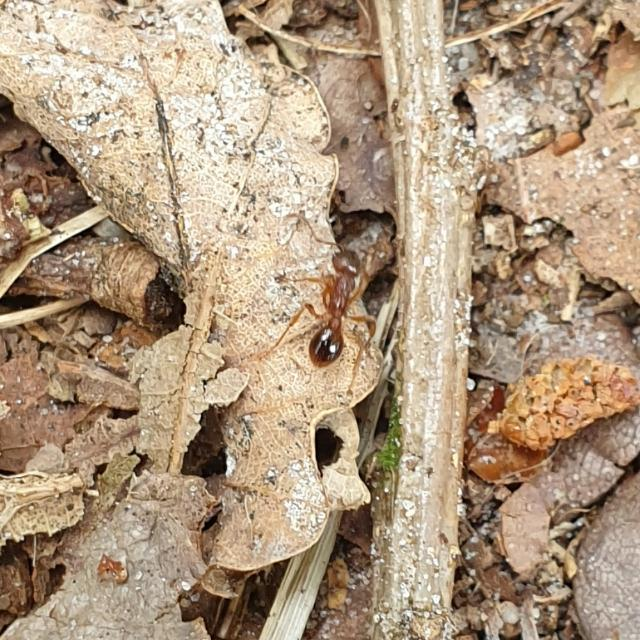Myrmica: (284, 226, 390, 372)
